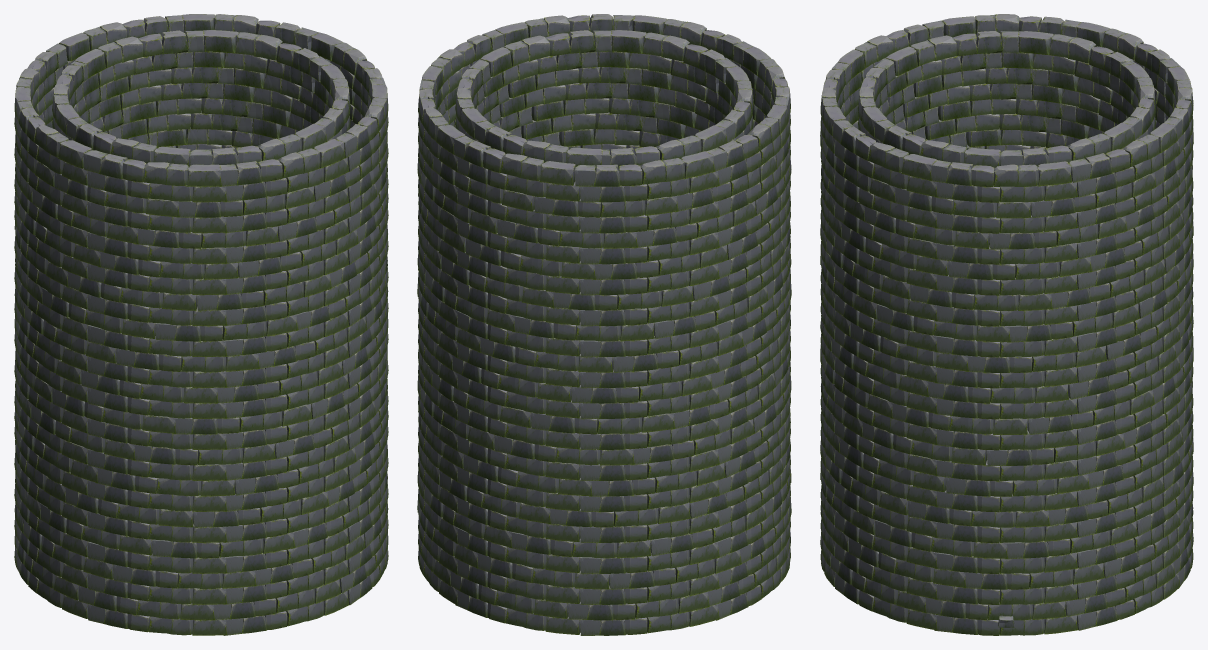
The model's file is Pebble_Round_1.fbx.
3 renders of one model, left to right at view 1: azimuth 30°, elevation 25°; view 2: azimuth 150°, elevation 25°; view 3: azimuth 270°, elevation 25°, orthographic.
Parts seen in each view (by area): view 1: Mauerring_Reihe_02, Mauerring_UntereReihe, Mauerring_Innen, Mauerring_UntereReihe_Innen; view 2: Mauerring_Reihe_02, Mauerring_UntereReihe, Mauerring_Innen, Mauerring_UntereReihe_Innen; view 3: Mauerring_Reihe_02, Mauerring_UntereReihe, Mauerring_Innen, Mauerring_UntereReihe_Innen.
Boxes of the visible parts, x1,y1,x2,y2 form: Mauerring_Reihe_02: (14, 14, 388, 620); Mauerring_UntereReihe: (14, 55, 388, 635); Mauerring_Innen: (52, 30, 350, 167); Mauerring_UntereReihe_Innen: (52, 51, 350, 523); Mauerring_Reihe_02: (417, 14, 791, 620); Mauerring_UntereReihe: (418, 57, 790, 635); Mauerring_Innen: (455, 30, 753, 589); Mauerring_UntereReihe_Innen: (455, 51, 753, 606); Mauerring_Reihe_02: (820, 14, 1193, 620); Mauerring_UntereReihe: (820, 58, 1193, 635); Mauerring_Innen: (858, 31, 1155, 167); Mauerring_UntereReihe_Innen: (858, 52, 1155, 574).
Size of the model in its own units: 1145 by 1538 by 1116.
